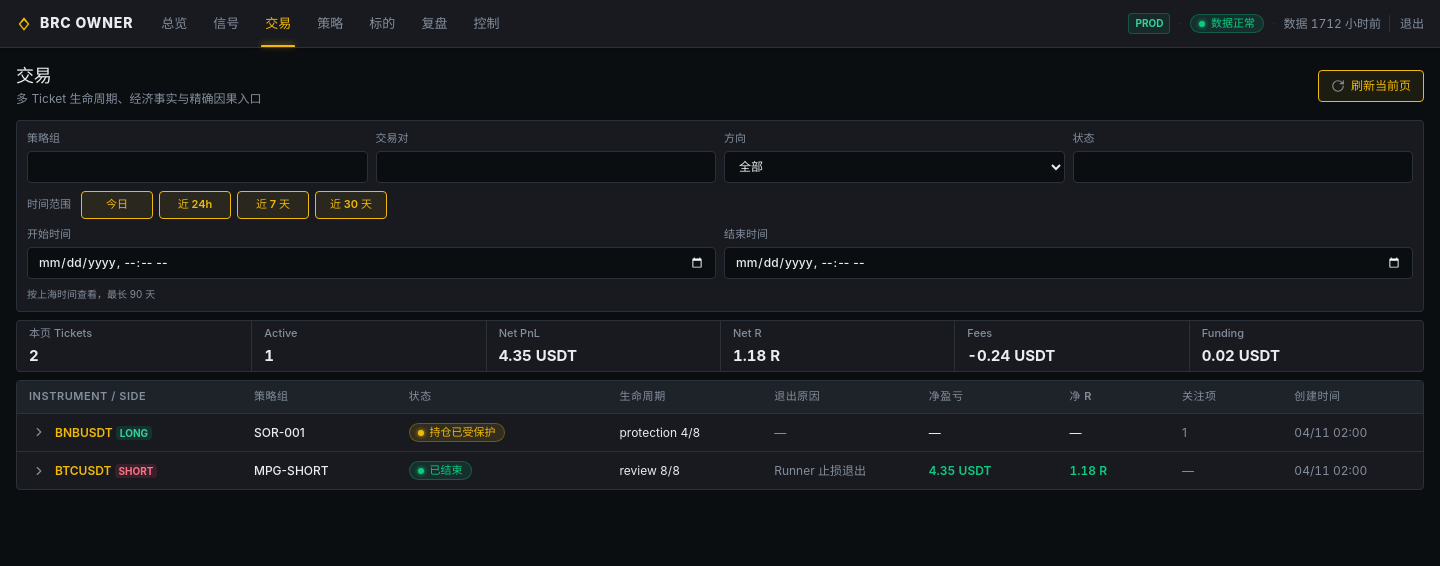
Test: opens one compact ticket summary inline
This screenshot has width=1440, height=566.
Click the button named "展开 BNBUSDT LONG 概要": {"x": 39, "y": 432} 29,422 -> 49,442
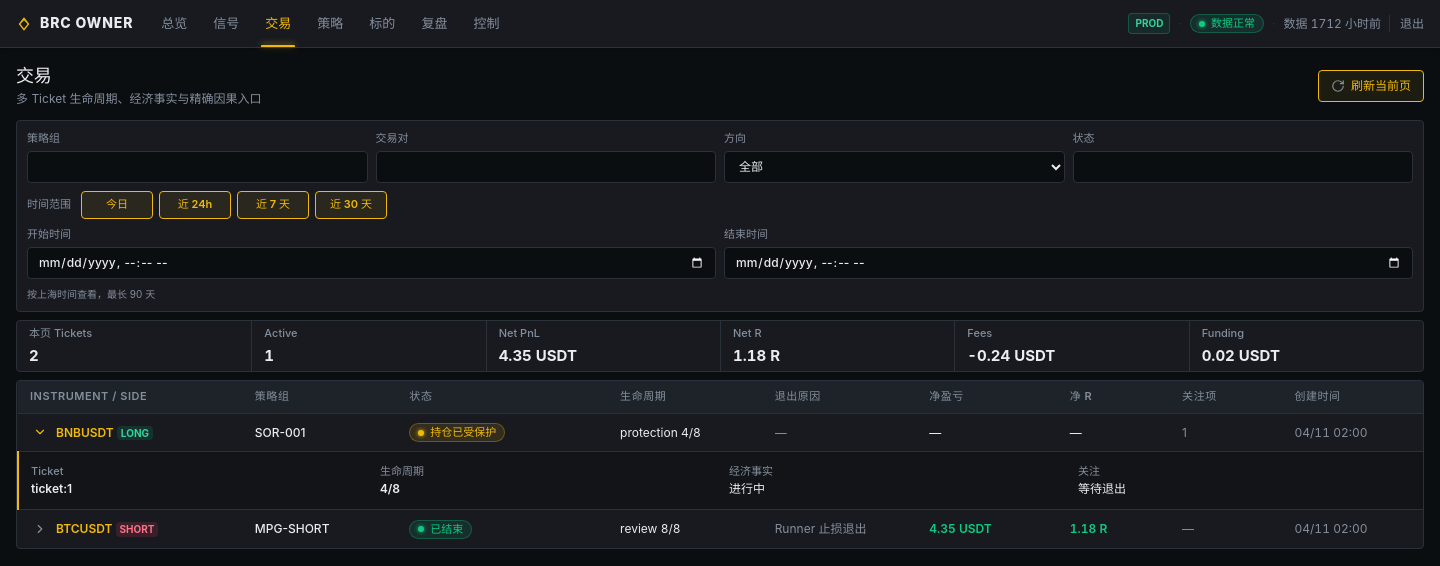
Expected: the text "ticket:1" is shown, 31,481 -> 72,496
Expected: the text "4/8" is shown, 380,481 -> 400,496
